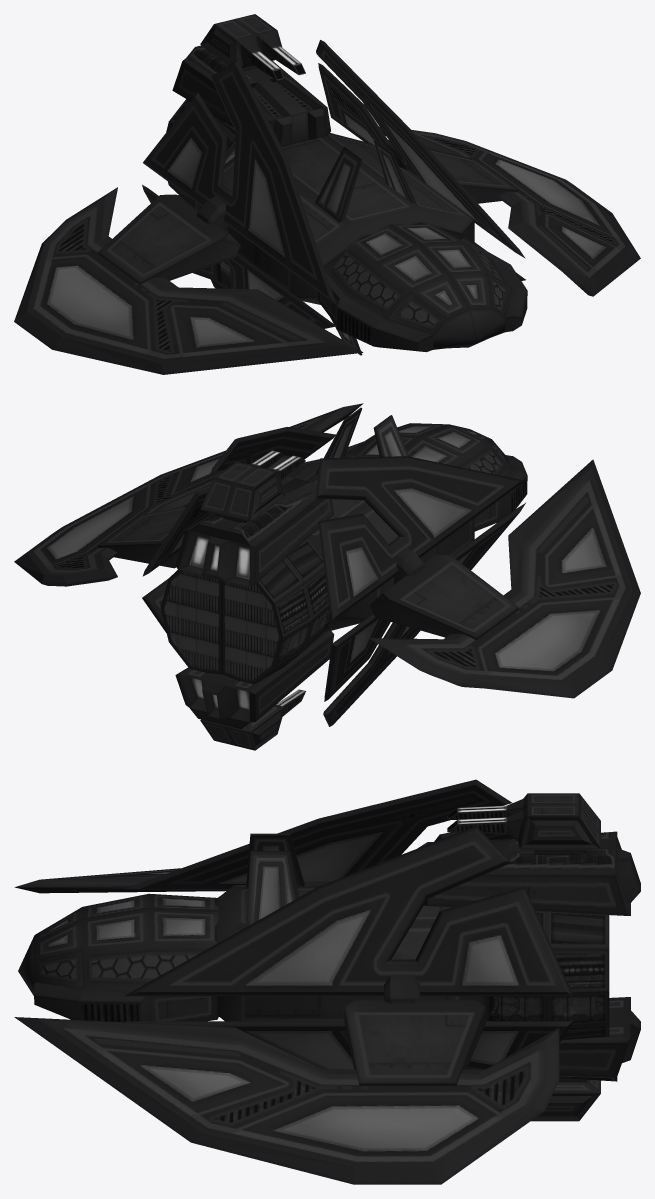
Rendered from astraTalonFleet_FighterB.FBX.
The picture shows the model from 3 angles, top to bottom: view 1: azimuth 30°, elevation 25°; view 2: azimuth 150°, elevation 25°; view 3: azimuth 270°, elevation 25°; orthographic projection. The views are drawn at different scales.
Parts seen in each view (by area): view 1: FighterBModel; view 2: FighterBModel; view 3: FighterBModel.
Boxes of the visible parts, <box> form: FighterBModel: <box>14,14,640,374</box>; FighterBModel: <box>14,403,640,750</box>; FighterBModel: <box>14,779,640,1184</box>.
Bounding box in the file's own units: 617 × 516 × 280.
